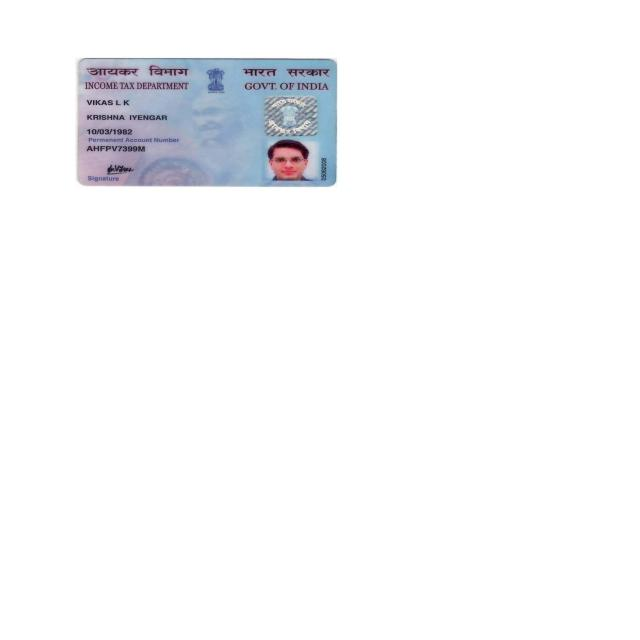pan_card: (75, 59, 338, 187)
